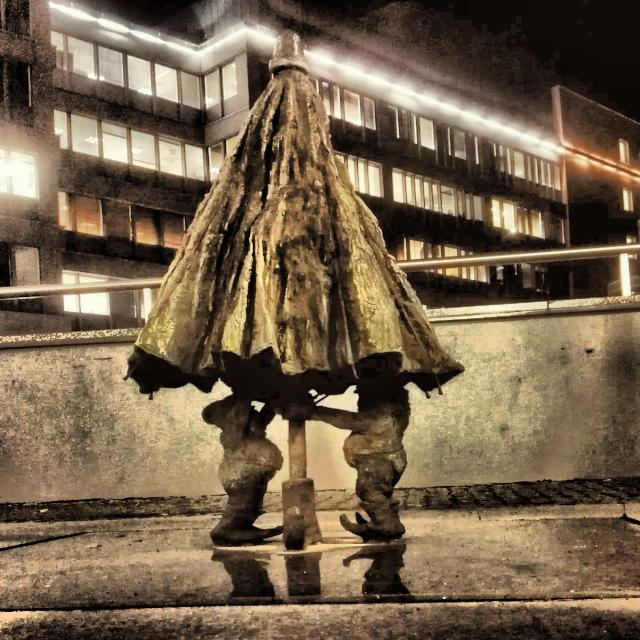Parasolniki: (122, 30, 465, 550)
